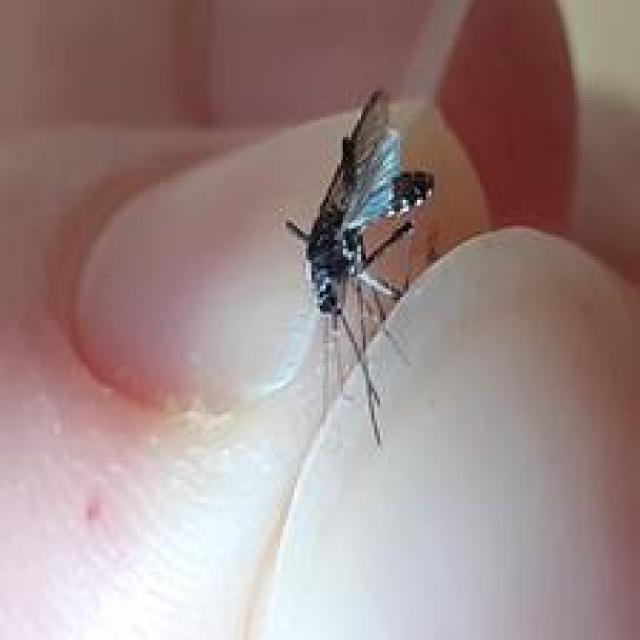Aedes albopictus: (281, 86, 436, 446)
